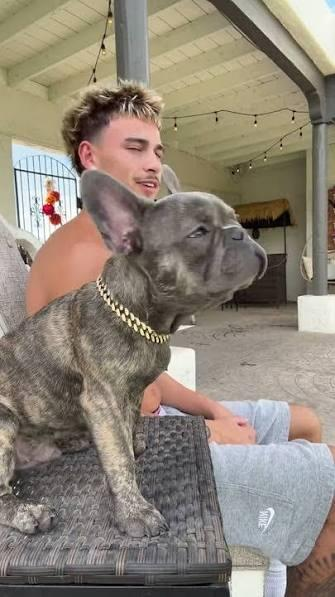adult_dog: (0, 160, 269, 541)
